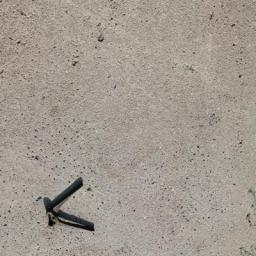FOD: (44, 179, 97, 235)
